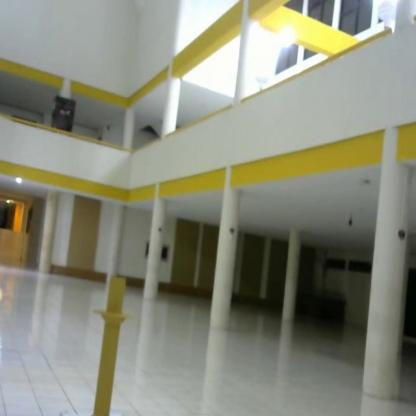pole: (88, 269, 137, 416)
